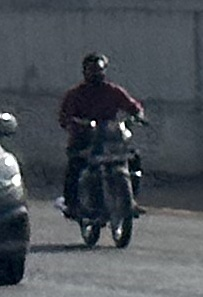BikeWithRider: (50, 45, 154, 252)
NoHelmet: (74, 46, 114, 86)
